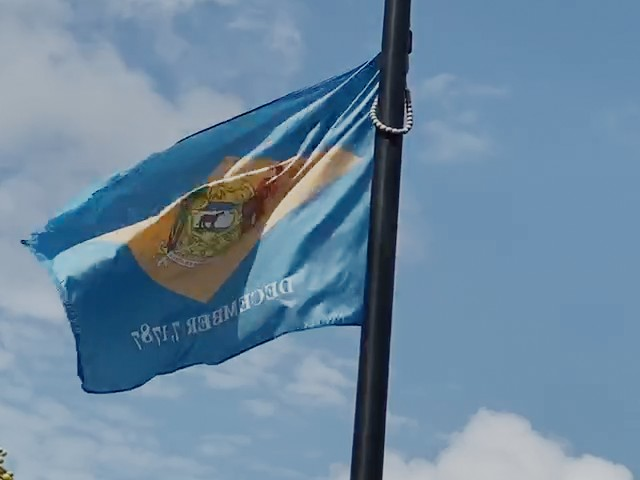Delaware flag: (22, 44, 384, 396)
